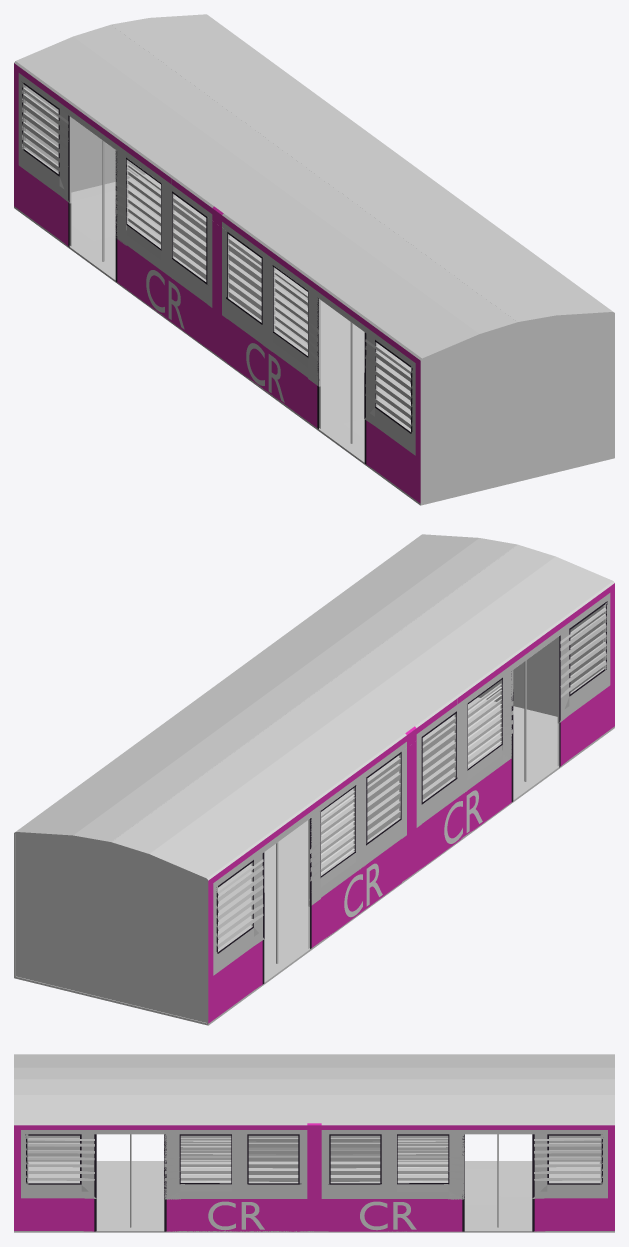
Rendered from boogey.fbx.
The picture shows the model from 3 angles, top to bottom: view 1: azimuth 30°, elevation 25°; view 2: azimuth 150°, elevation 25°; view 3: azimuth 270°, elevation 25°; orthographic projection. The views are drawn at different scales.
Parts seen in each view (by area): view 1: Cube.001, Cube; view 2: Cube.001, Cube; view 3: Cube, Cube.001, CR, CR.001.
Part boxes in pixels (x1=…): Cube.001: x1=25, y1=85, x2=614, y2=505; Cube: x1=14, y1=14, x2=409, y2=356; Cube.001: x1=16, y1=534, x2=614, y2=1022; Cube: x1=14, y1=683, x2=411, y2=1025; Cube: x1=314, y1=1054, x2=614, y2=1232; Cube.001: x1=14, y1=1054, x2=313, y2=1232; CR: x1=208, y1=1201, x2=264, y2=1230; CR.001: x1=360, y1=1201, x2=416, y2=1230.
Size of the model in its own units: 2250 by 1727 by 7962.
